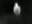person: (13, 3, 23, 18)
